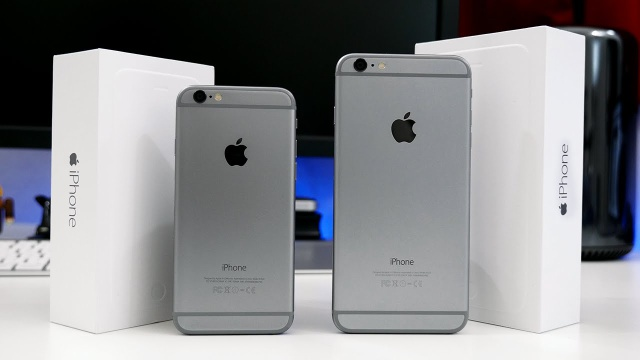apple: (214, 130, 258, 178), (387, 112, 428, 146)
